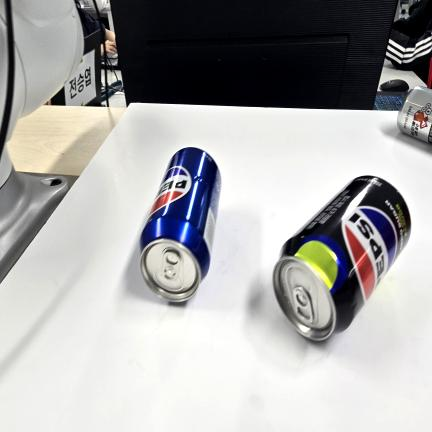can_pepsi: (137, 147, 226, 303), (141, 148, 224, 302)
can_pepsi_zero: (273, 172, 412, 340)
